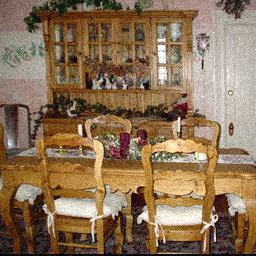Puerta: (219, 16, 254, 145)
